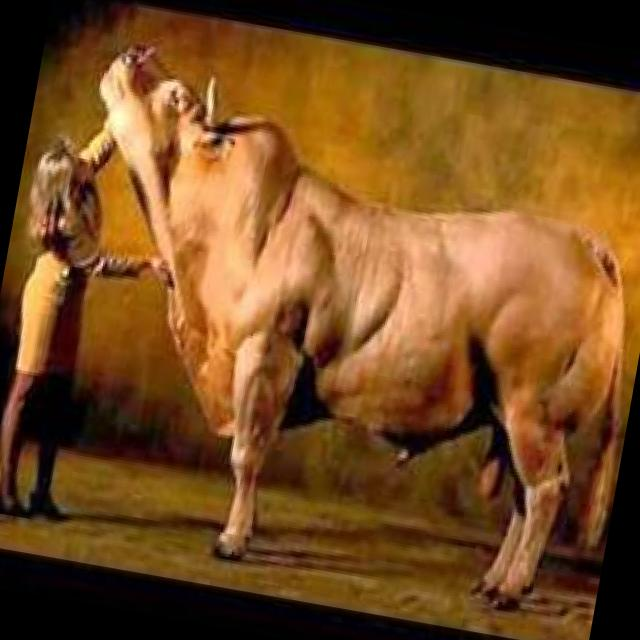animal: (29, 33, 640, 594)
